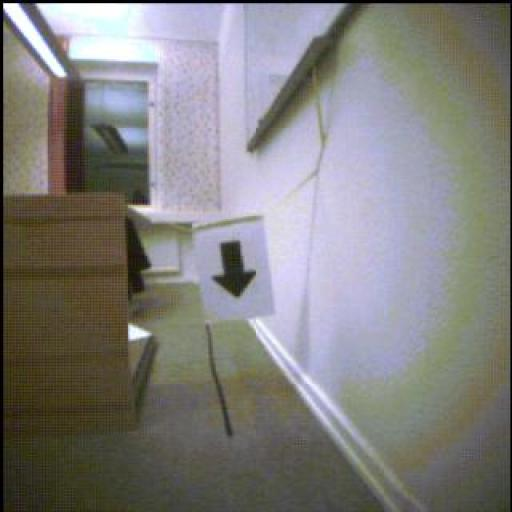Arrow: (214, 243, 257, 299)
